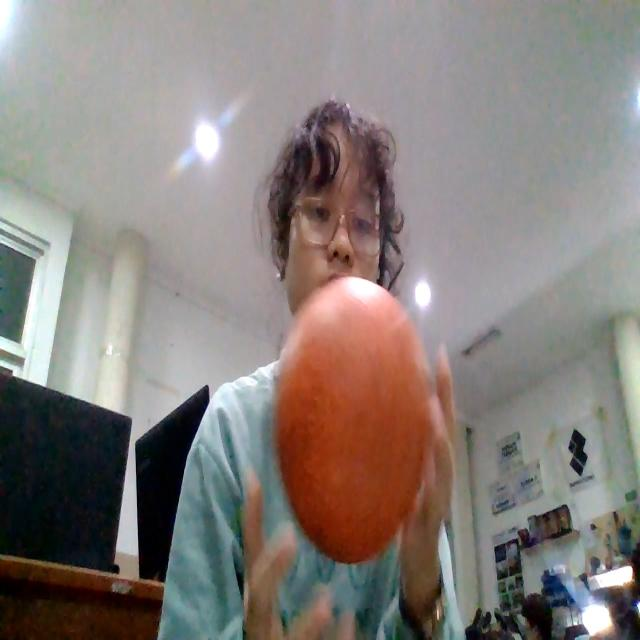ball: (272, 274, 432, 564)
